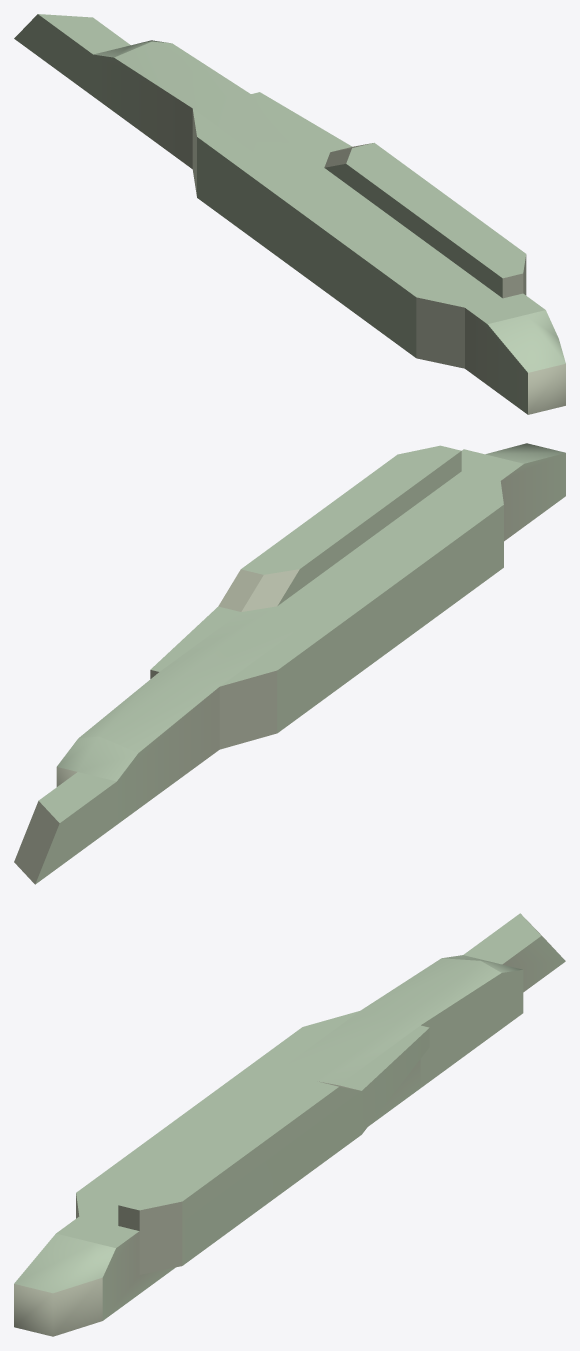
Rendered from geology-crystals-crystalshard_v2.glb.
The picture shows the model from 3 angles, top to bottom: view 1: azimuth 30°, elevation 25°; view 2: azimuth 150°, elevation 25°; view 3: azimuth 330°, elevation 25°; orthographic projection. The views are drawn at different scales.
Visible parts, largest first — view 1: CrystalShard_v2; view 2: CrystalShard_v2; view 3: CrystalShard_v2.
Boxes of the visible parts, x1,y1,x2,y2 form: CrystalShard_v2: (14,14,565,414); CrystalShard_v2: (14,443,565,884); CrystalShard_v2: (14,913,565,1336).
Size of the model in its own units: 2.17 by 1.58 by 18.13.
